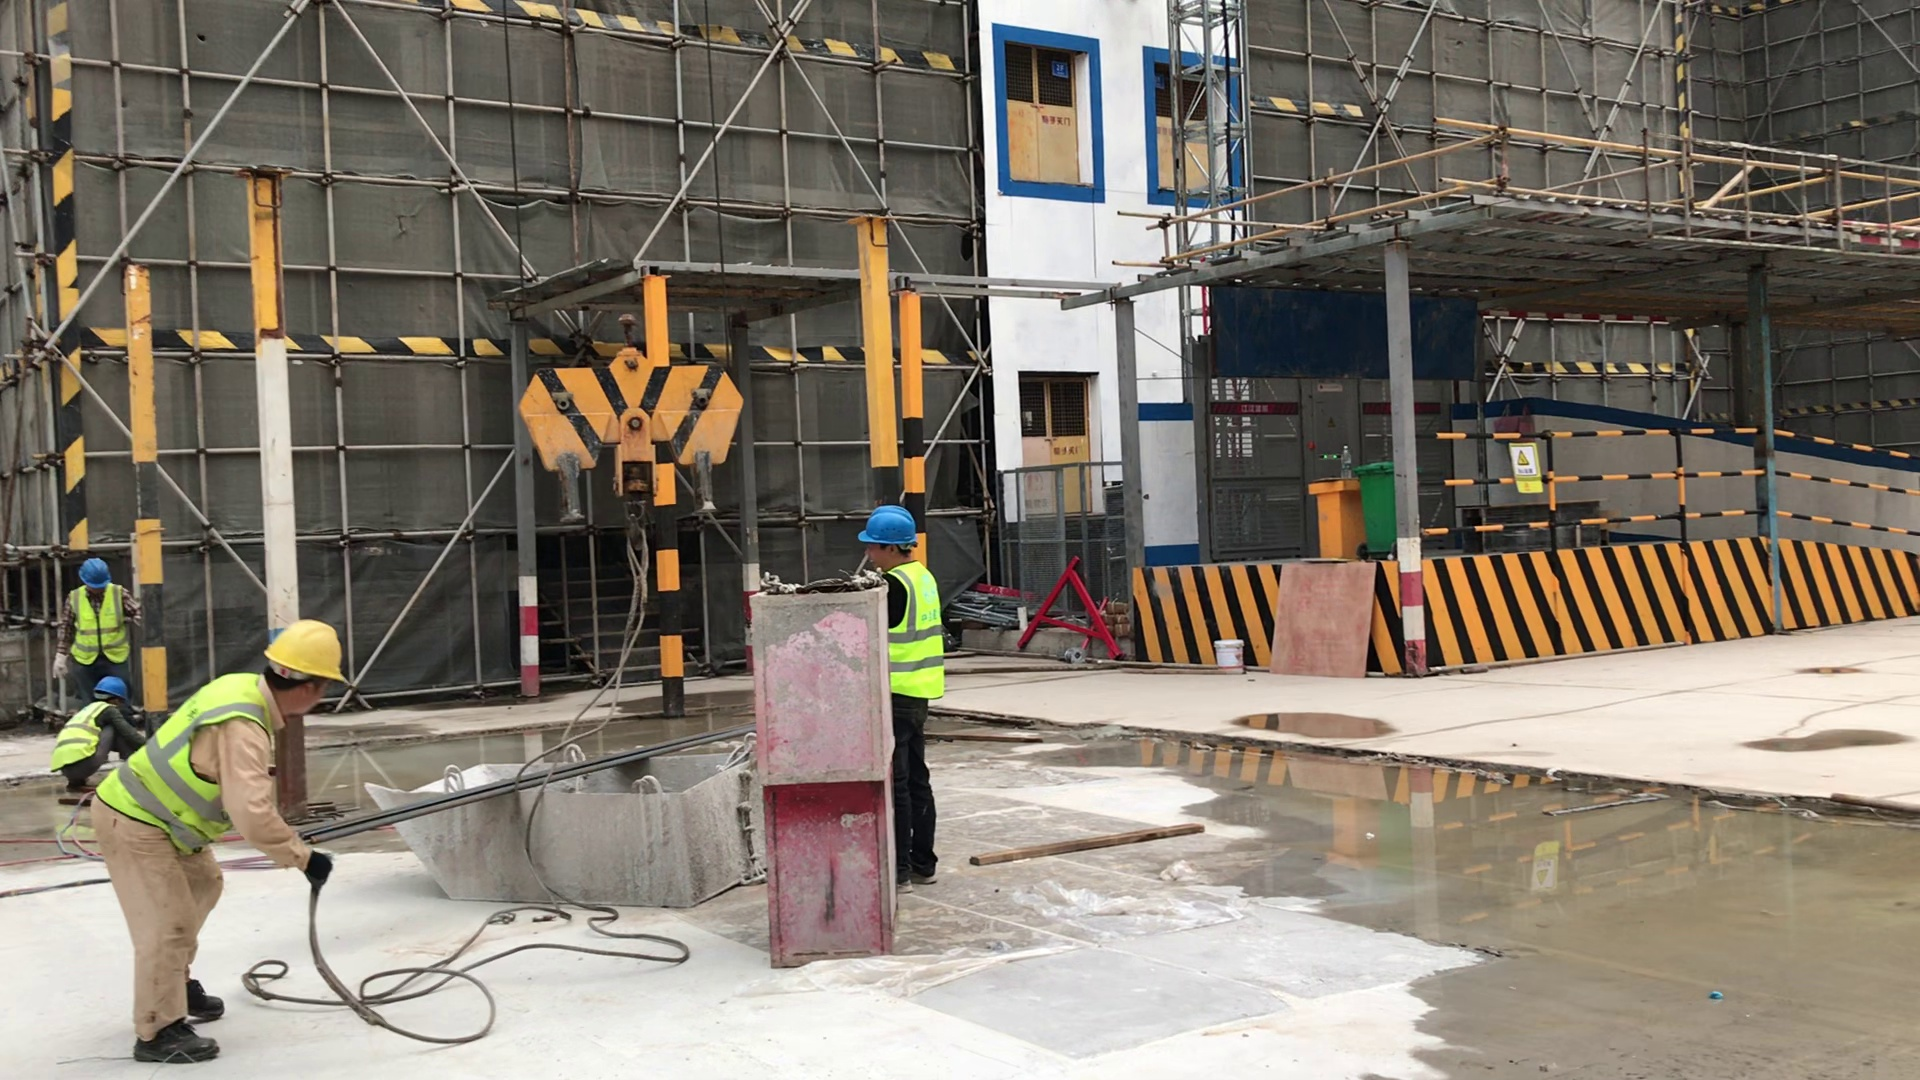helmet: (261, 611, 355, 700), (856, 501, 924, 585), (59, 550, 115, 593), (92, 666, 133, 699)
person: (89, 596, 408, 1073), (767, 495, 1000, 891), (40, 547, 183, 706), (42, 673, 150, 824)
vest: (84, 668, 291, 865), (867, 562, 960, 711), (53, 577, 139, 662), (48, 688, 113, 785)
